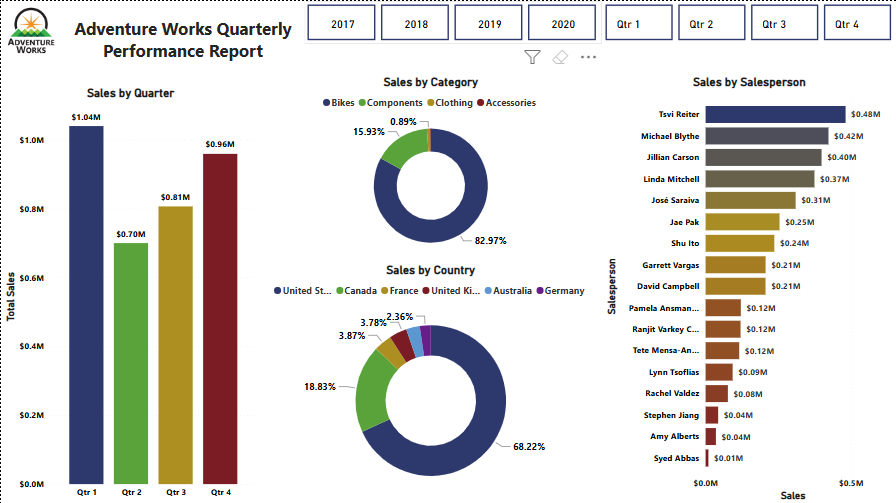

What the dashboard file says about the page in this screenshot:
{"tool":"powerbi","page":{"name":"Sales","canvas":[1280,720],"ordinal":0},"visuals":[{"type":"clusteredColumnChart","title":"Sales by Quarter","fields":{"Y":["Key Measures.Total Sales"],"Category":["Sales.OrderDate.Variation.Date Hierarchy.Quarter"]},"box":[0,121.1,370.2,598.7],"z":0},{"type":"donutChart","title":"Sales by Category","fields":{"Y":["Key Measures.Total Sales"],"Category":["Products.Category"]},"box":[379.9,106,468,268.4],"z":1000},{"type":"donutChart","title":"Sales by Country","fields":{"Y":["Key Measures.Total Sales"],"Category":["Region.Country"]},"box":[379.9,374.4,468,345.5],"z":2000},{"type":"clusteredBarChart","fields":{"Category":["Salesperson.Salesperson"],"Y":["Key Measures.Total Sales"]},"box":[858.8,106,421.2,613.8],"z":3000},{"type":"advancedSlicerVisual","fields":{"Values":["Sales.OrderDate.Variation.Date Hierarchy.Year"]},"box":[433.5,0,425.3,61.9],"z":4000},{"type":"advancedSlicerVisual","fields":{"Values":["Sales.OrderDate.Variation.Date Hierarchy.Quarter"]},"box":[858.8,0,421.2,61.9],"z":5000},{"type":"textbox","box":[85.3,0,348.2,106],"z":6000},{"type":"image","box":[0,0,85.3,84],"z":7000}]}

Visuals, with their boxes in screenshot pixels (x1, y1, x2, y2), scaled from the page's 1280x720 canvas onto the 896x503 screenshot:
"Sales by Quarter" clusteredColumnChart: bbox=(0, 85, 259, 502)
"Sales by Category" donutChart: bbox=(266, 74, 594, 262)
"Sales by Country" donutChart: bbox=(266, 262, 594, 502)
clusteredBarChart - Salesperson.Salesperson x Key Measures.Total Sales: bbox=(601, 74, 895, 502)
advancedSlicerVisual - Sales.OrderDate.Variation.Date Hierarchy.Year: bbox=(303, 0, 601, 43)
advancedSlicerVisual - Sales.OrderDate.Variation.Date Hierarchy.Quarter: bbox=(601, 0, 895, 43)
textbox: bbox=(60, 0, 303, 74)
image: bbox=(0, 0, 60, 59)
